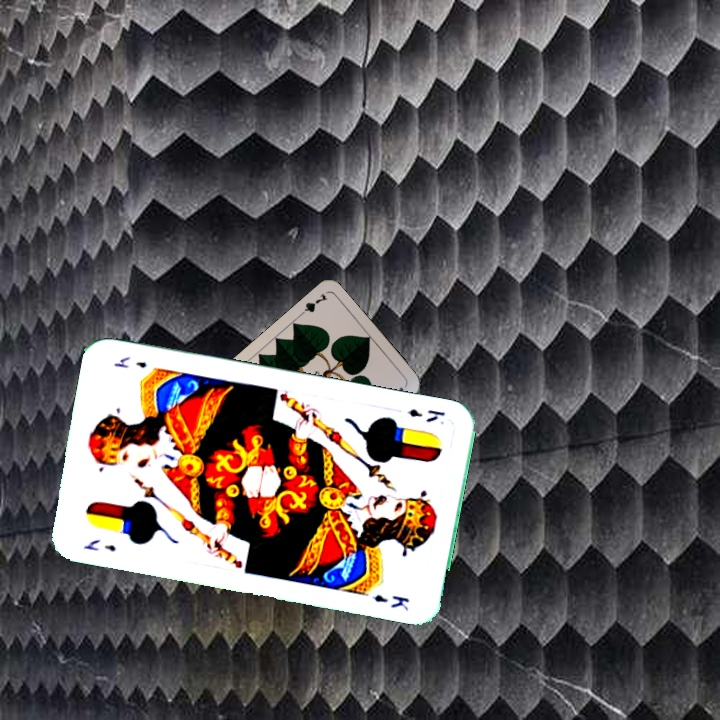EK: (404, 404, 447, 425), (79, 535, 118, 555)
G7: (293, 289, 330, 320)
